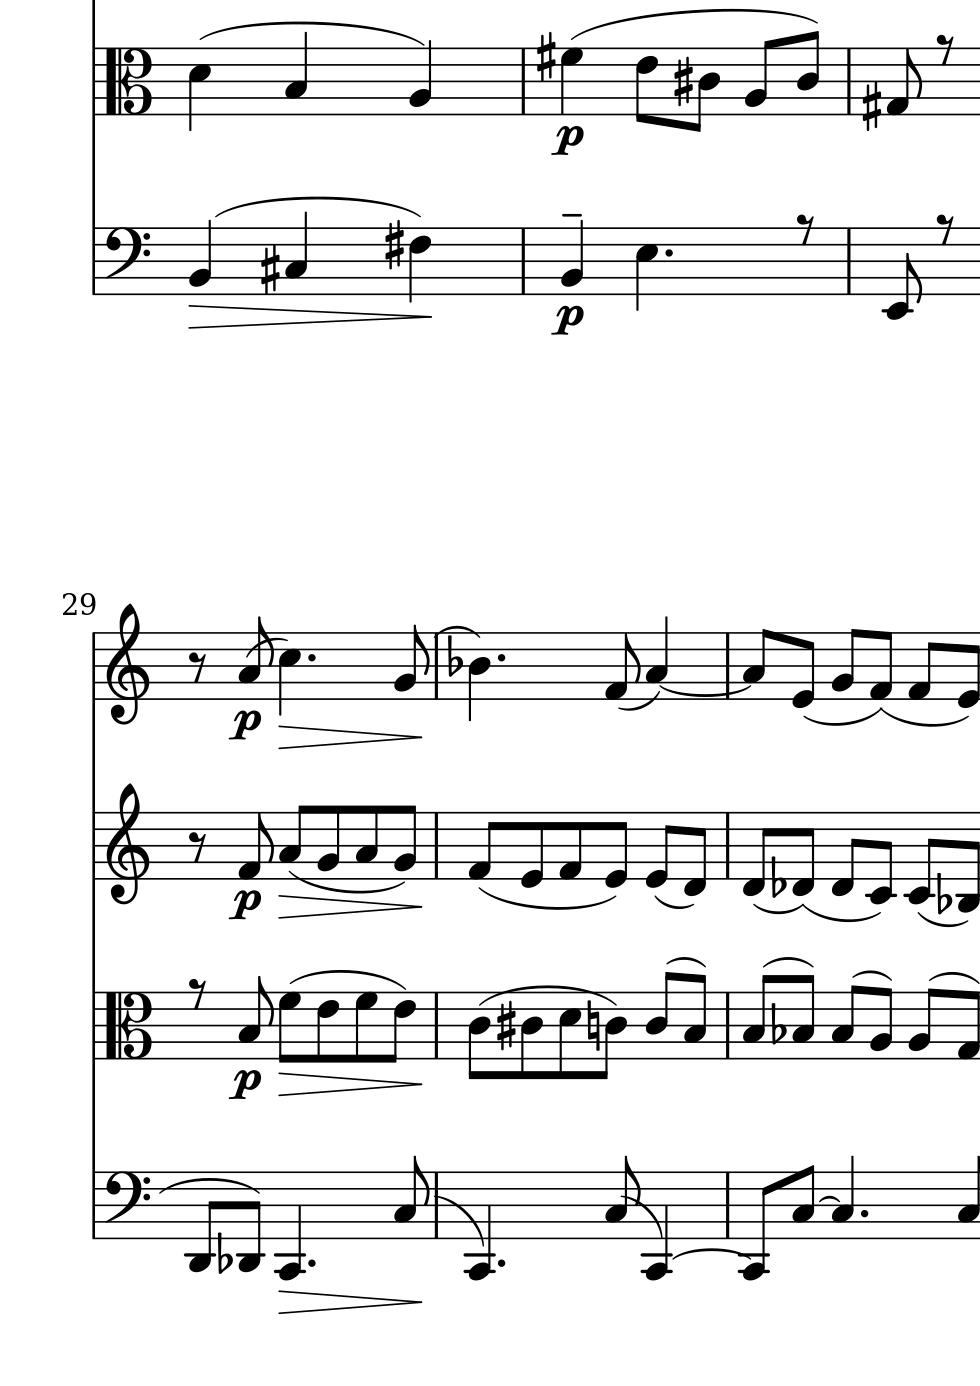2: (59, 591, 78, 616)
2_-4: (642, 1171, 671, 1283)
4_-4: (463, 1169, 495, 1282), (274, 1170, 304, 1282)
4_2: (830, 1154, 856, 1241), (559, 220, 584, 296), (408, 39, 433, 117)
4_3: (283, 210, 309, 295), (644, 615, 669, 699), (283, 30, 308, 116)
4_4: (466, 632, 491, 722)
4_5: (186, 46, 213, 133), (633, 226, 659, 313), (277, 631, 302, 716)
4_6: (407, 226, 432, 304)
4_7: (558, 46, 584, 116)
8_-1: (740, 810, 772, 898), (830, 810, 861, 898), (682, 810, 708, 900), (791, 810, 817, 899)
8_-2: (882, 225, 923, 322), (903, 810, 938, 905), (865, 810, 896, 903)
8_-3: (185, 1170, 218, 1273), (237, 1169, 262, 1273), (953, 809, 976, 912)
8_-4: (740, 1169, 772, 1282)
8_0: (643, 810, 675, 890), (603, 810, 631, 891), (518, 810, 545, 890), (789, 630, 816, 712), (955, 631, 978, 710)
8_1: (885, 45, 923, 116), (603, 630, 641, 702), (235, 810, 273, 881), (465, 810, 500, 881), (906, 630, 939, 702), (868, 629, 893, 704), (557, 809, 583, 880), (955, 988, 978, 1063)
8_2: (392, 624, 428, 701), (742, 37, 775, 116), (906, 987, 939, 1062), (829, 627, 860, 701), (187, 218, 213, 297), (315, 803, 342, 881), (392, 803, 418, 881), (868, 987, 893, 1062)
8_3: (392, 1154, 430, 1240), (237, 973, 272, 1062), (603, 1154, 638, 1241), (237, 615, 272, 701), (740, 973, 769, 1062), (278, 803, 309, 879), (682, 973, 708, 1062), (830, 983, 860, 1062), (790, 973, 816, 1062), (741, 626, 771, 700), (353, 803, 379, 881), (790, 1163, 815, 1240)
8_4: (645, 971, 676, 1062), (597, 990, 627, 1082), (690, 46, 720, 135), (465, 992, 491, 1082), (518, 992, 543, 1081), (795, 30, 820, 117)
8_5: (556, 992, 581, 1082)
8_6: (385, 990, 417, 1065), (633, 46, 658, 126), (314, 992, 340, 1065)
8_7: (277, 990, 301, 1064), (353, 990, 378, 1063)
9: (78, 590, 97, 616)
Cclef: (103, 46, 154, 117), (103, 989, 153, 1059)
Diminuendo_hairpin: (187, 303, 431, 327), (281, 1070, 425, 1100), (281, 1289, 422, 1316), (275, 896, 419, 919), (279, 724, 422, 748)
Fclef: (103, 225, 152, 297), (102, 1170, 151, 1241)
Flat: (444, 634, 463, 679), (768, 1000, 787, 1045), (214, 1231, 232, 1276), (769, 855, 785, 899), (935, 871, 951, 914)
Gclef: (104, 602, 151, 726), (104, 782, 151, 905)
Natural: (585, 997, 600, 1050)
Rests8: (185, 976, 208, 1010), (934, 32, 957, 67), (186, 650, 208, 684), (186, 830, 208, 863), (794, 211, 815, 245), (935, 212, 956, 246)
Sharp: (257, 243, 281, 296), (533, 31, 557, 83), (382, 220, 404, 271), (860, 78, 881, 133), (671, 56, 693, 107), (496, 999, 517, 1050)
Single_barline: (85, 47, 103, 115), (85, 992, 103, 1058), (719, 812, 736, 880), (719, 992, 735, 1059), (86, 812, 102, 879), (428, 812, 444, 879), (428, 992, 444, 1058), (427, 1171, 443, 1238), (720, 1172, 736, 1238), (428, 634, 444, 699), (86, 632, 101, 700), (517, 49, 531, 115), (86, 228, 101, 293), (841, 229, 856, 294), (517, 229, 531, 293), (86, 1173, 101, 1236), (720, 632, 734, 699)
Slur: (567, 7, 822, 42), (195, 19, 426, 43), (211, 195, 421, 215), (478, 888, 618, 912), (435, 1185, 483, 1246), (482, 984, 613, 1006), (293, 967, 410, 992), (286, 872, 402, 894), (157, 1176, 265, 1195), (880, 710, 970, 727), (802, 709, 881, 726), (801, 905, 880, 922), (671, 1247, 754, 1263), (659, 684, 745, 699), (244, 637, 290, 656), (916, 912, 967, 928), (762, 957, 815, 971), (928, 970, 979, 985), (617, 692, 659, 710), (436, 625, 480, 638), (654, 893, 693, 909), (751, 903, 803, 915), (852, 969, 892, 982), (667, 955, 706, 968), (818, 1195, 841, 1204)
dot: (304, 1256, 318, 1271), (494, 650, 508, 665), (495, 1256, 508, 1271), (661, 246, 675, 260), (304, 650, 318, 664), (857, 1207, 871, 1220)
p: (549, 303, 585, 341), (227, 1068, 261, 1104), (550, 124, 584, 159), (227, 709, 261, 744), (227, 889, 261, 923)
